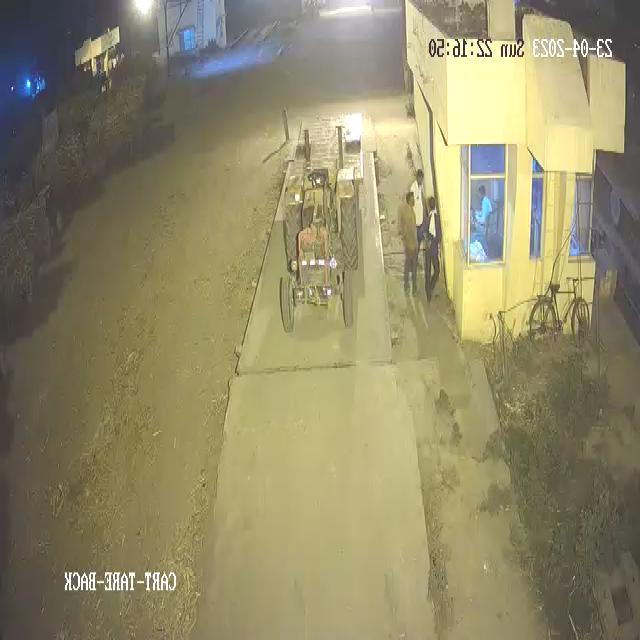Tratores - v5 YOLO V8L 2024-11-13: (274, 172, 356, 345)
